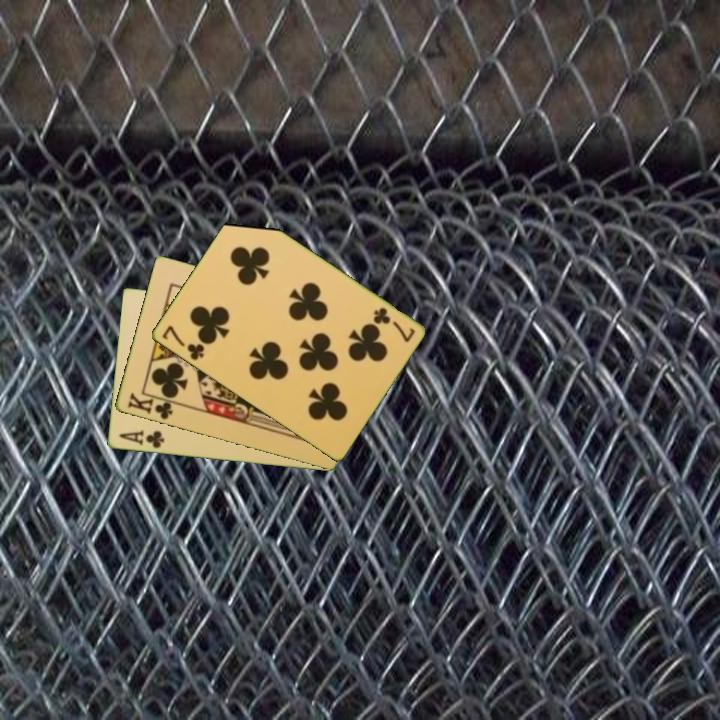7c: (158, 322, 207, 363), (369, 304, 418, 345)
Ac: (115, 427, 166, 451)
Kc: (123, 389, 180, 423)
